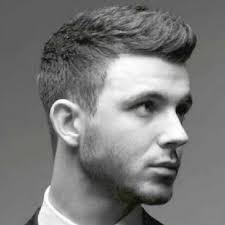white_male: (84, 44, 190, 207)
